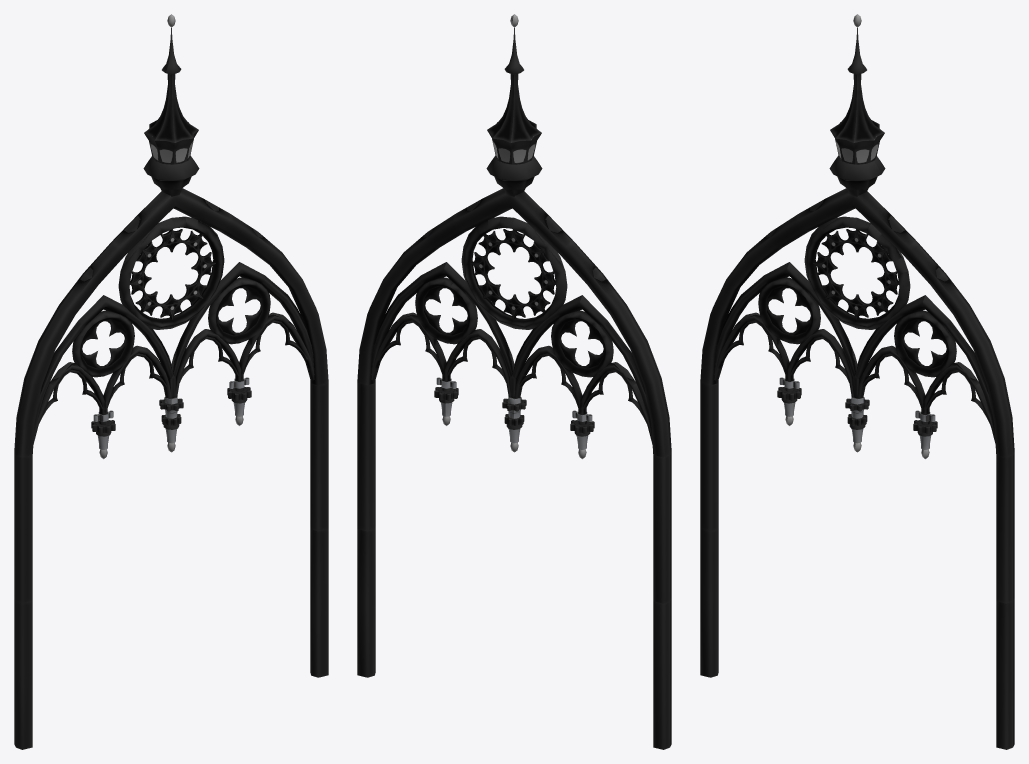
The model's file is gate1.dae.
3 renders of one model, left to right at view 1: azimuth 30°, elevation 25°; view 2: azimuth 150°, elevation 25°; view 3: azimuth 330°, elevation 25°, orthographic.
Visible parts, largest first — view 1: gateShape-P0; view 2: gateShape-P0; view 3: gateShape-P0.
Boxes of the visible parts, bbox=[...] form: gateShape-P0: bbox=[14, 14, 328, 749]; gateShape-P0: bbox=[357, 14, 671, 749]; gateShape-P0: bbox=[700, 14, 1014, 749].
Bounding box in the file's own units: 6.29 × 13.44 × 0.9792.
